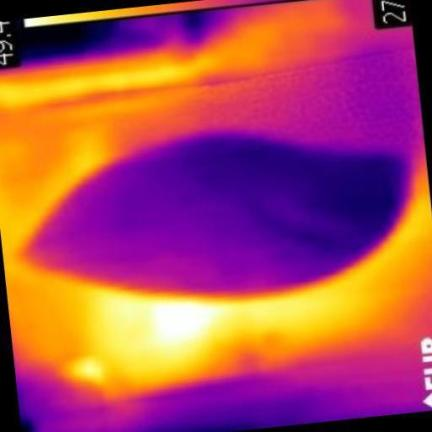mango: (27, 134, 407, 296)
